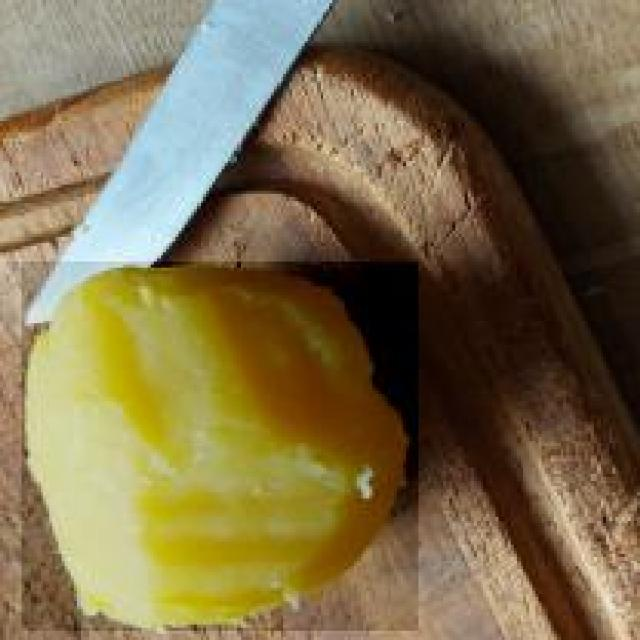butter: (18, 258, 418, 631)
